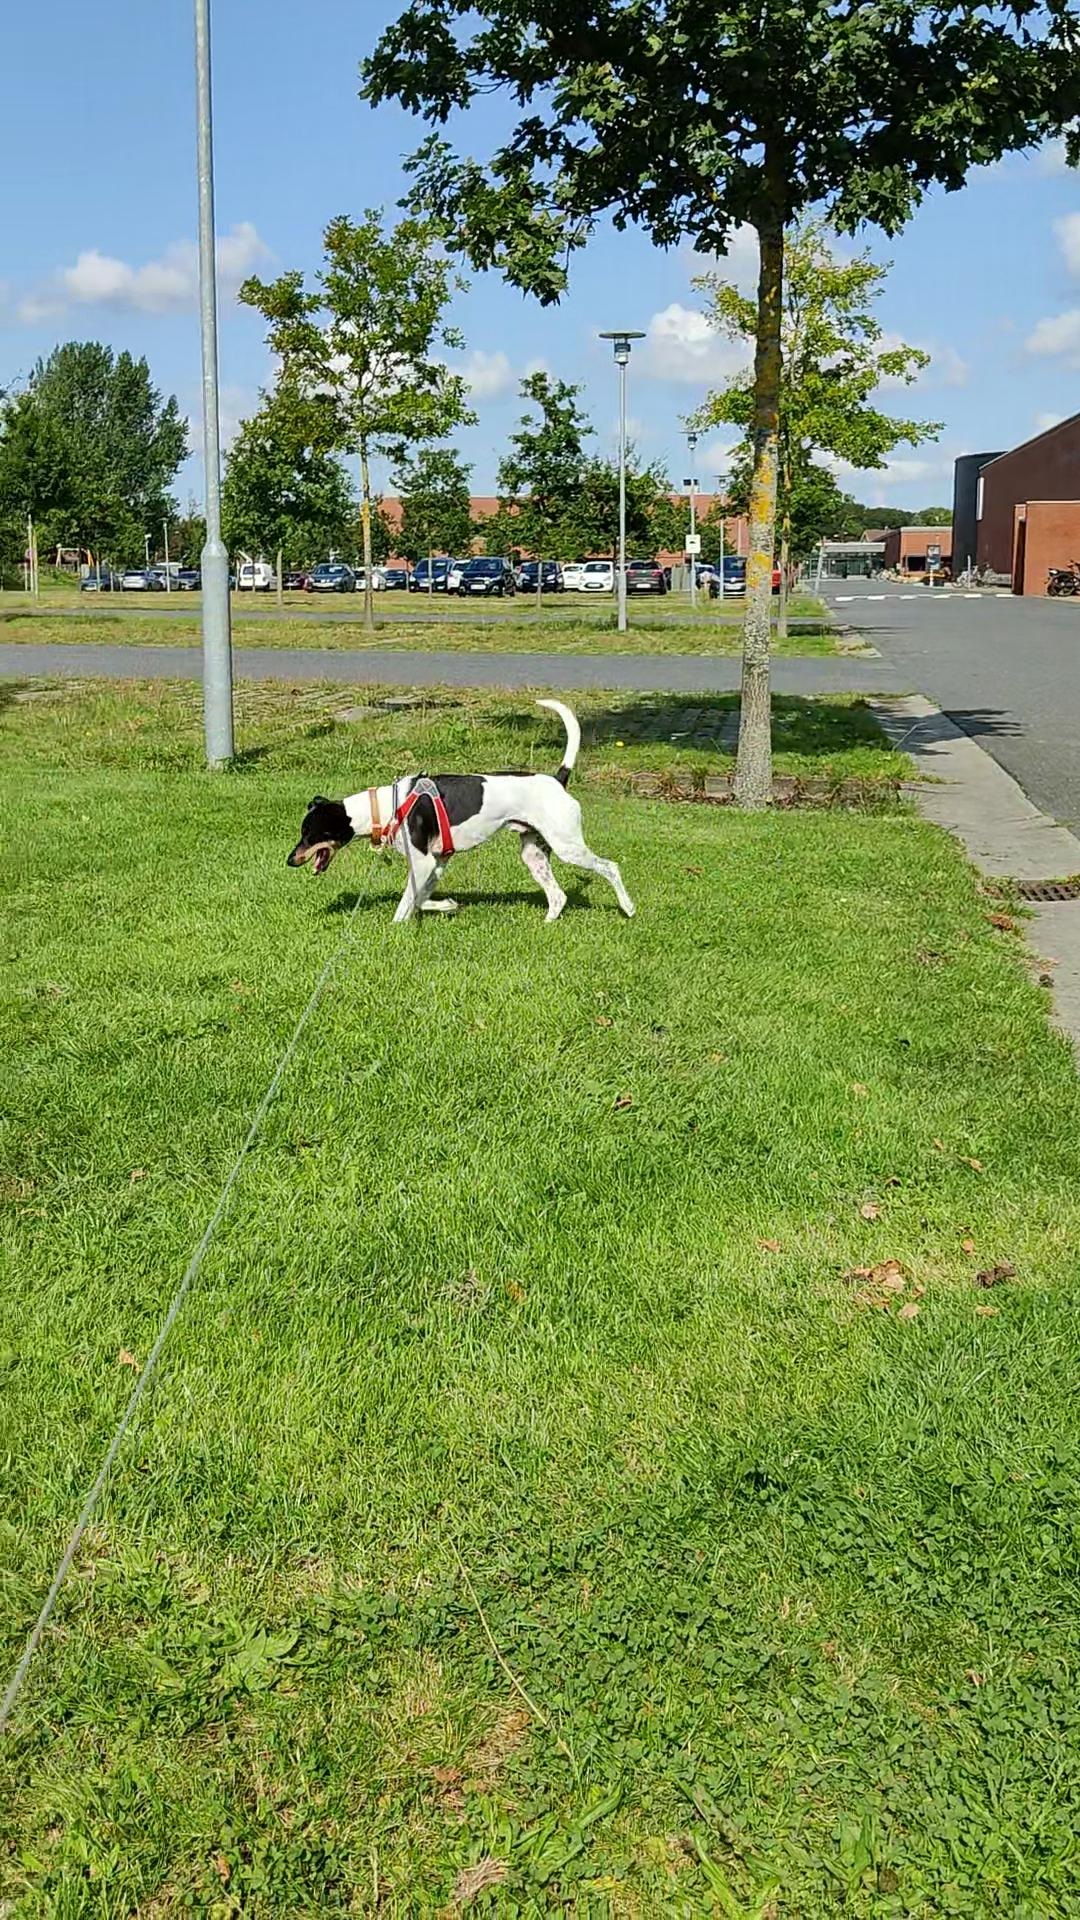Dog: (282, 696, 640, 924)
